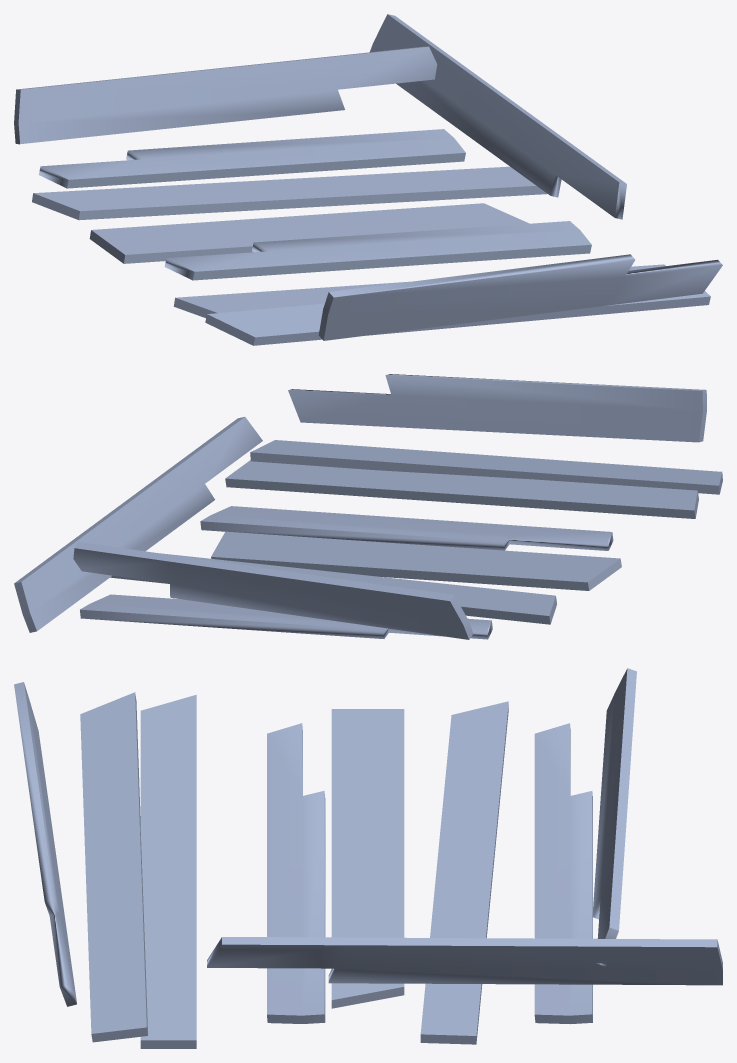
Rendered from Beam_Structure_17B_Lod0.fbx.
The picture shows the model from 3 angles, top to bottom: view 1: azimuth 30°, elevation 25°; view 2: azimuth 150°, elevation 25°; view 3: azimuth 270°, elevation 25°; orthographic projection. The views are drawn at different scales.
Parts seen in each view (by area): view 1: Beam_Structure_17B_Lod0; view 2: Beam_Structure_17B_Lod0; view 3: Beam_Structure_17B_Lod0.
Part boxes in pixels (x1=…): Beam_Structure_17B_Lod0: x1=14, y1=14, x2=722, y2=345; Beam_Structure_17B_Lod0: x1=14, y1=374, x2=722, y2=639; Beam_Structure_17B_Lod0: x1=14, y1=668, x2=722, y2=1048.
Size of the model in its own units: 213 by 59.49 by 251.
